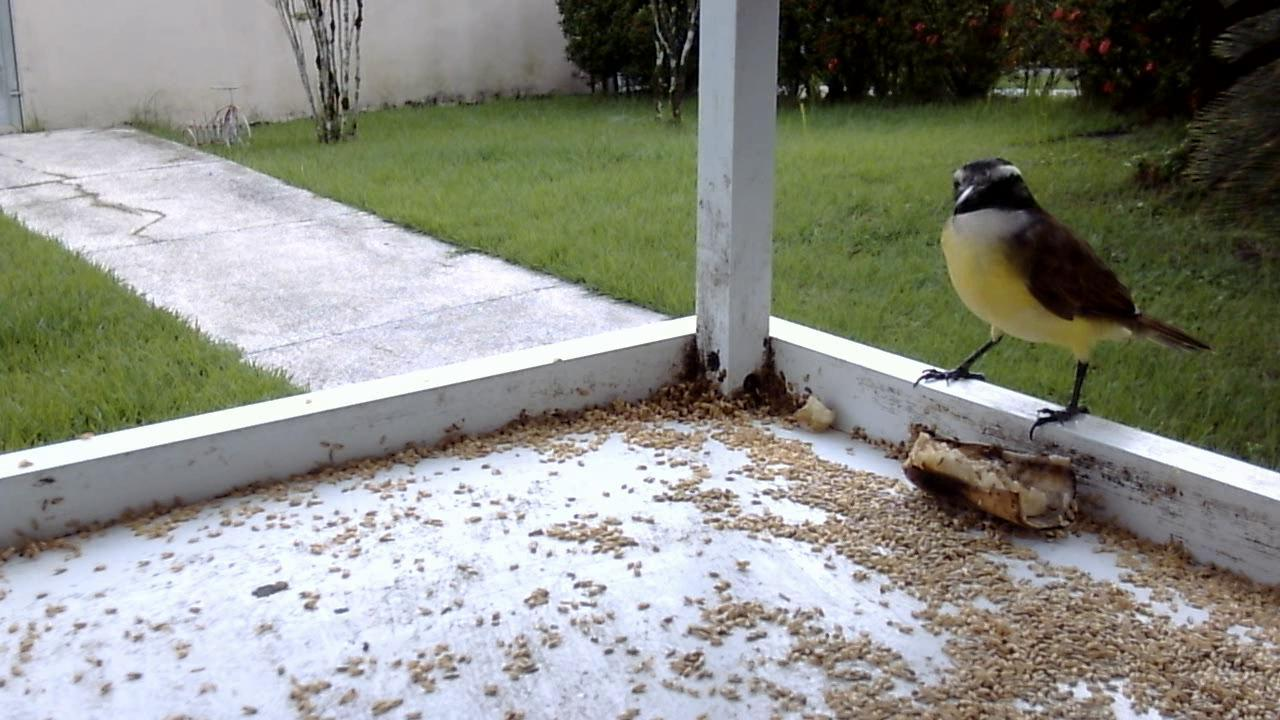bem_te_vi: (904, 146, 1221, 447)
